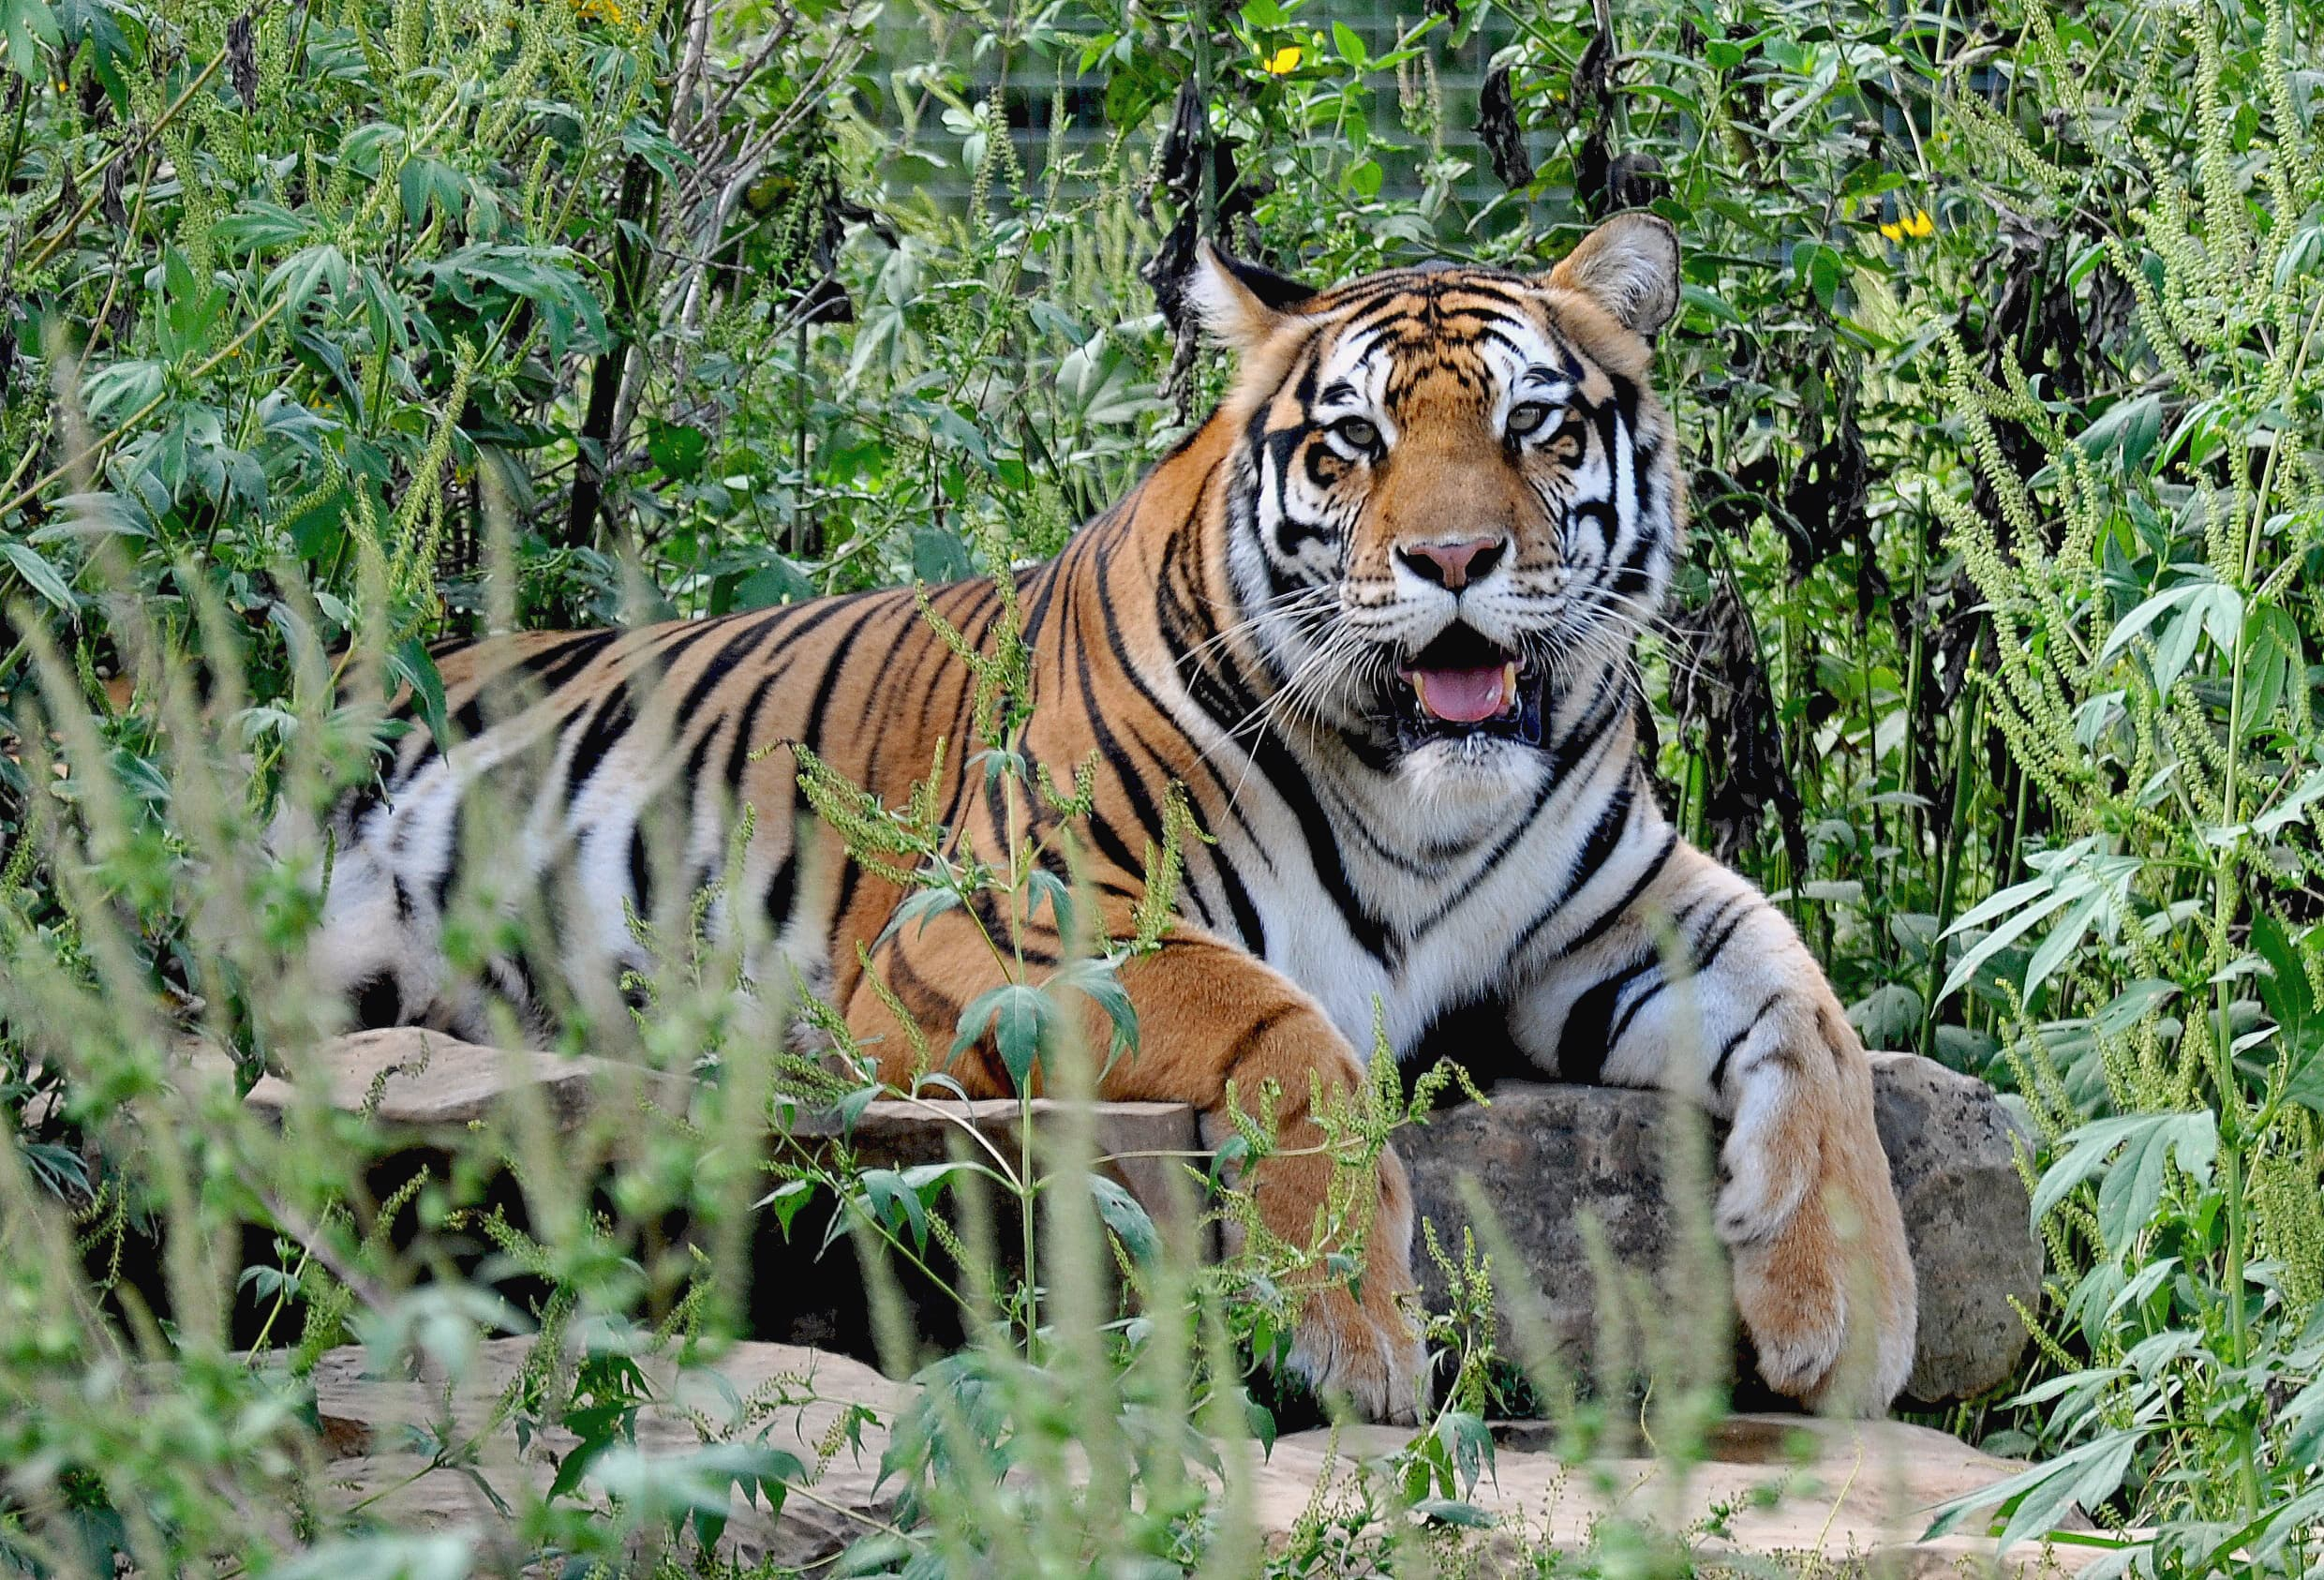Tiger: (192, 106, 1943, 1580)
